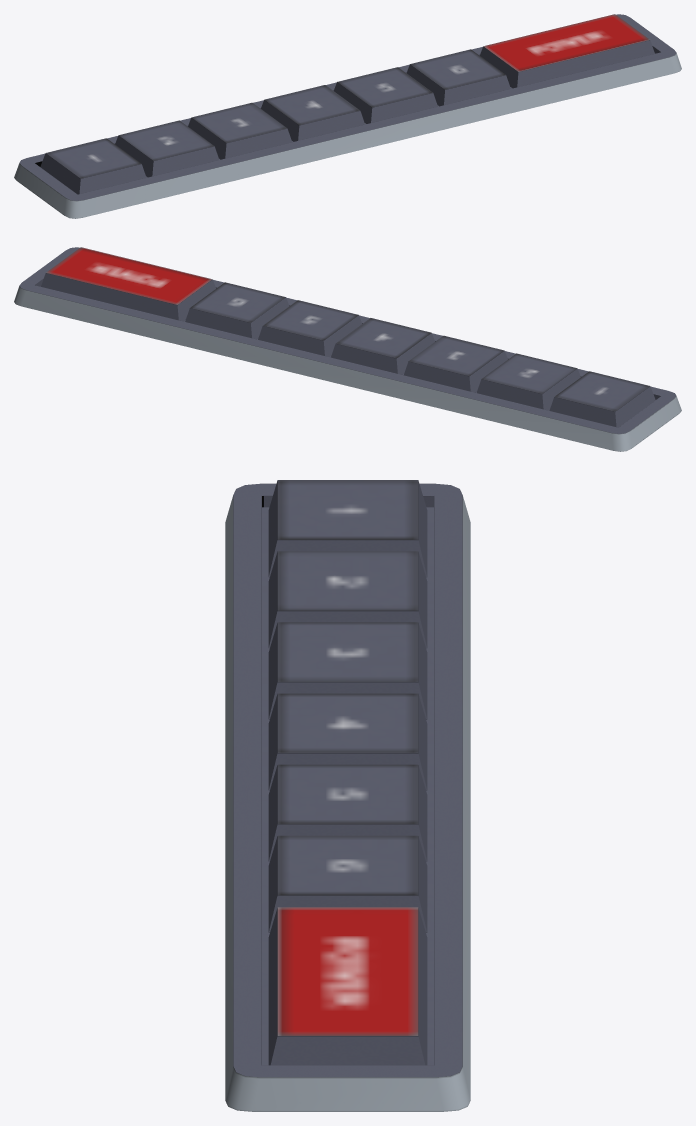
File: Panel_Button_Line_02.FBX
The picture shows the model from 3 angles, top to bottom: view 1: azimuth 30°, elevation 25°; view 2: azimuth 150°, elevation 25°; view 3: azimuth 270°, elevation 25°; orthographic projection. The views are drawn at different scales.
Parts seen in each view (by area): view 1: Panel_Button_Line_02, Button_07, Button_01, Button_02, Button_05, Button_03, Button_06, Button_04; view 2: Panel_Button_Line_02, Button_07, Button_01, Button_02, Button_05, Button_03, Button_06, Button_04; view 3: Panel_Button_Line_02, Button_07, Button_06, Button_04, Button_03, Button_02, Button_01, Button_05.
Boxes of the visible parts, x1,y1,x2,y2 form: Panel_Button_Line_02: (14,14,681,218); Button_07: (480,14,654,88); Button_01: (40,138,146,194); Button_02: (115,120,219,177); Button_05: (334,67,437,123); Button_03: (188,102,291,159); Button_06: (406,49,510,106); Button_04: (261,85,364,141); Panel_Button_Line_02: (14,247,681,451); Button_07: (41,247,215,321); Button_01: (549,371,655,427); Button_02: (476,353,580,410); Button_05: (258,300,361,356); Button_03: (404,335,507,392); Button_06: (185,282,289,339); Button_04: (331,318,434,374); Panel_Button_Line_02: (225,483,470,1111); Button_07: (268,907,427,1065); Button_06: (268,835,427,932); Button_04: (268,693,427,790); Button_03: (268,622,427,719); Button_02: (268,551,427,648); Button_01: (268,480,427,577); Button_05: (268,764,427,861).
Size of the model in its own units: 2.11 by 0.0877 by 0.3648.
